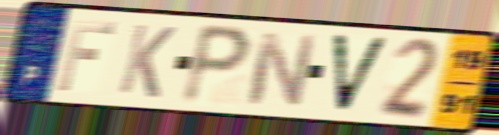2: (377, 35, 442, 120)
F: (54, 18, 120, 94)
K: (115, 21, 179, 101)
N: (244, 29, 319, 110)
P: (177, 21, 255, 108)
V: (328, 31, 393, 116)
